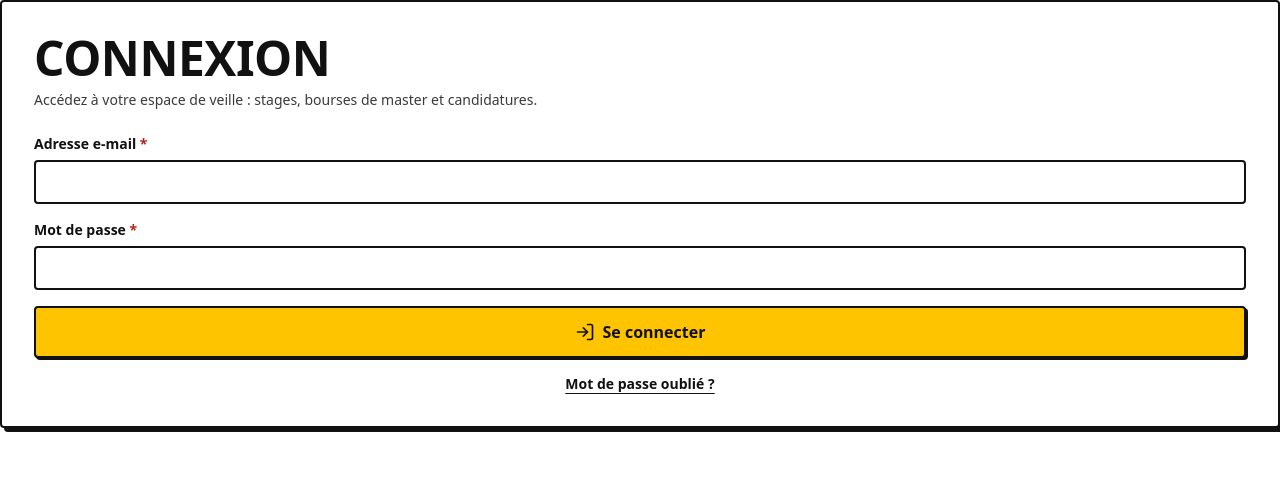
Test: connexion › valide les champs avant tout appel réseau
The image size is (1280, 501).
Click the button "Se connecter": (640, 332) [34, 306, 1246, 358]
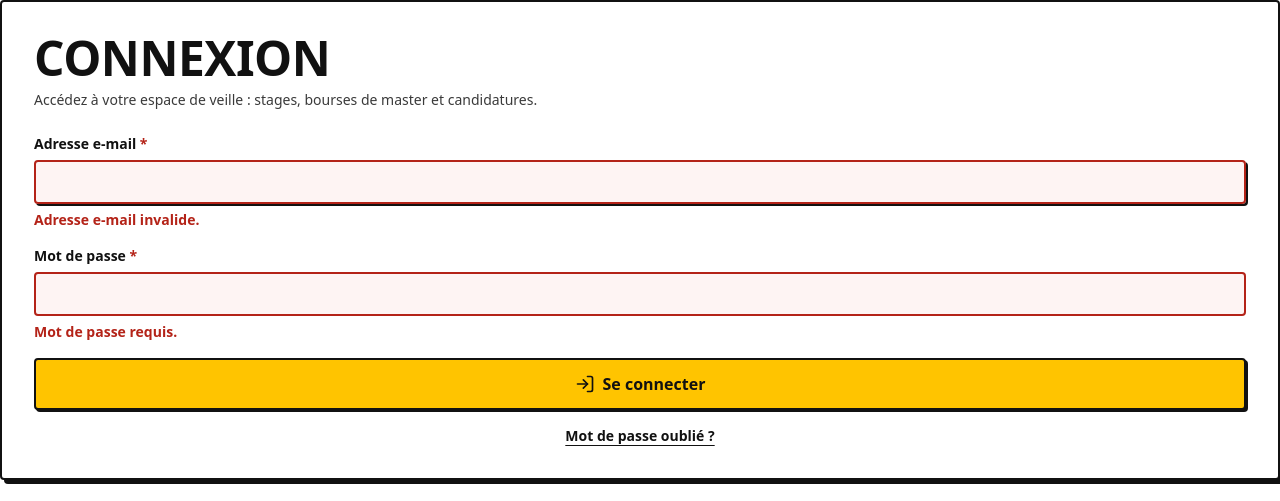
Now the text "Adresse e-mail invalide." is shown, box [34, 210, 199, 229]
